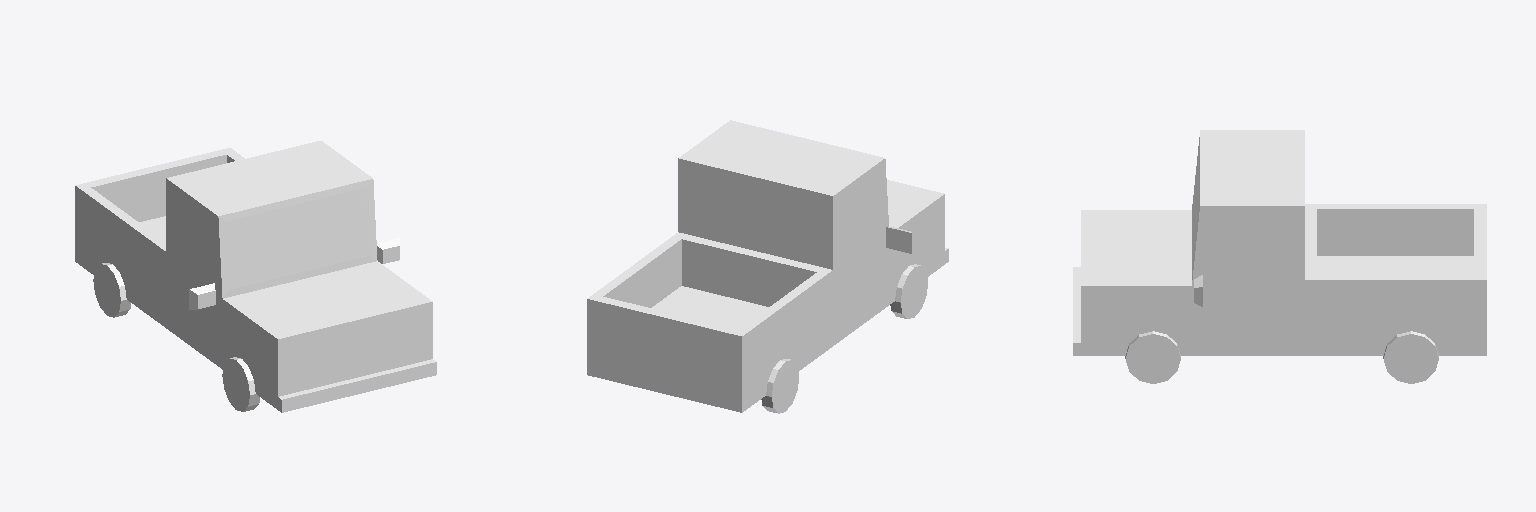
The model's file is Truck.obj.
3 renders of one model, left to right at view 1: azimuth 30°, elevation 25°; view 2: azimuth 150°, elevation 25°; view 3: azimuth 270°, elevation 25°, orthographic.
Parts seen in each view (by area): view 1: ute_empty_mesh_Mesh.003; view 2: ute_empty_mesh_Mesh.003; view 3: ute_empty_mesh_Mesh.003.
Boxes of the visible parts, x1,y1,x2,y2 form: ute_empty_mesh_Mesh.003: [75, 141, 436, 412]; ute_empty_mesh_Mesh.003: [587, 120, 948, 413]; ute_empty_mesh_Mesh.003: [1073, 130, 1486, 383].
Size of the model in its own units: 3.16 by 2.52 by 5.38.